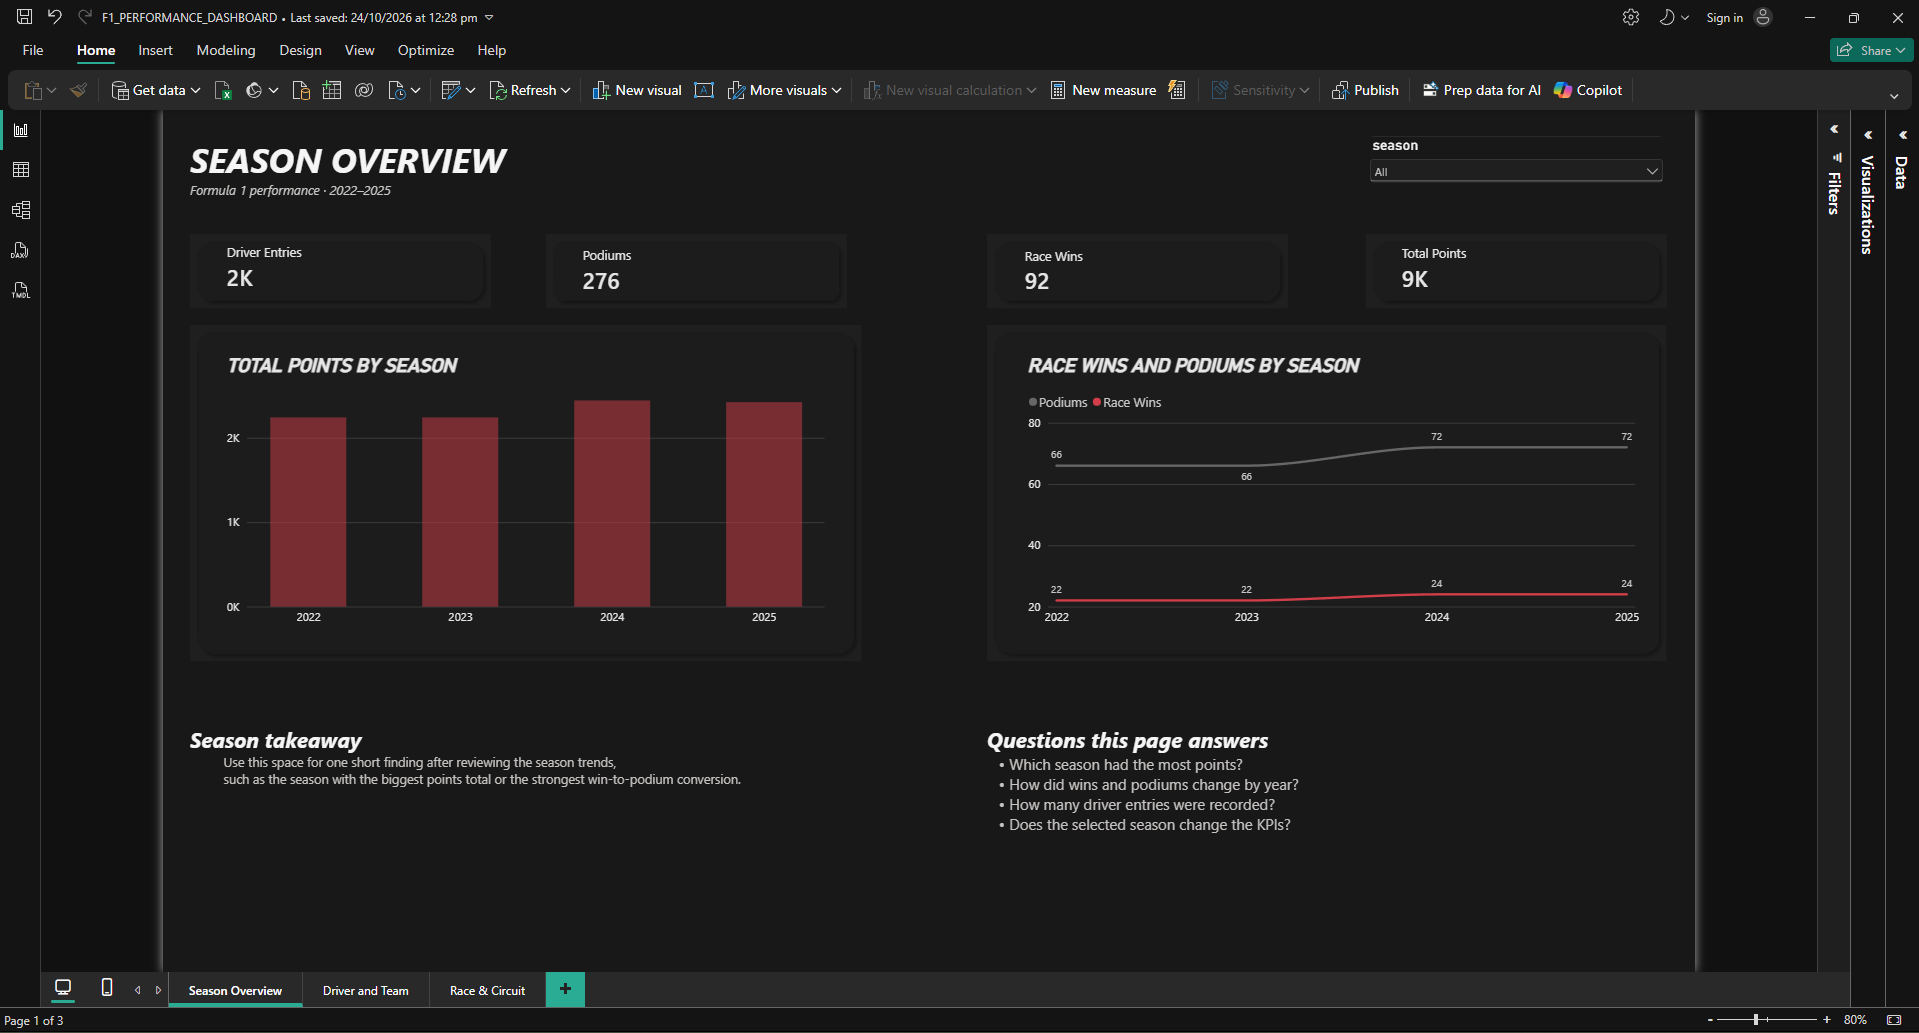

What the dashboard file says about the page in this screenshot:
{"tool":"powerbi","page":{"name":"Season Overview","canvas":[1920,1080],"ordinal":0},"visuals":[{"type":"shape","box":[34.3,155.7,377,93.4],"z":0,"group":"g1"},{"type":"group","id":"g1","title":"Background","box":[34.3,155.7,1850,535.7],"z":500},{"type":"shape","box":[480,155.7,377,93.4],"z":1000,"group":"g1"},{"type":"cardVisual","fields":{"Data":[" fact_race_results.Driver Entries"]},"box":[64.3,165.7,298.6,65.7],"z":1000},{"type":"shape","box":[1032.9,155.7,377,93.4],"z":2000,"group":"g1"},{"type":"cardVisual","fields":{"Data":[" fact_race_results.Podiums"]},"box":[510,165.7,317.1,74.3],"z":2000},{"type":"shape","box":[1507.2,155.7,377,93.4],"z":3000,"group":"g1"},{"type":"cardVisual","fields":{"Data":[" fact_race_results.Race Wins"]},"box":[1064.3,167.1,312.9,71.4],"z":3000},{"type":"cardVisual","fields":{"Data":[" fact_race_results.Total Points"]},"box":[1535.7,167.1,320,65.7],"z":4000},{"type":"shape","box":[34.3,270.1,841.4,421.3],"z":4000,"group":"g1"},{"type":"shape","box":[1032.9,270.1,851.4,421.3],"z":5000,"group":"g1"},{"type":"columnChart","title":"TOTAL POINTS BY SEASON","fields":{"Category":[" clean_races.season"],"Y":[" fact_race_results.Total Points"]},"box":[64.3,291.4,781.4,374.3],"z":5000},{"type":"lineChart","title":"RACE WINS AND PODIUMS BY SEASON","fields":{"Category":[" clean_races.season"],"Y":[" fact_race_results.Podiums"," fact_race_results.Race Wins"]},"box":[1067.1,291.4,798.6,374.3],"z":6000},{"type":"textbox","box":[34.3,32.9,822.9,105.7],"z":6001},{"type":"slicer","fields":{"Values":[" clean_races.season"]},"box":[1507.1,32.9,377.1,105.7],"z":6002},{"type":"textbox","box":[34.3,770,854.3,264.3],"z":6003},{"type":"textbox","box":[1032.9,770,851.4,264.3],"z":6004}]}

Visuals, with their boxes on the page's 1920x1080 design canvas (x1, y1, x2, y2). These are canvas units, not pixel positions in the 1919x1033 screenshot, which may show the page scaled, cropped or inside an application window:
shape: [34,156,411,249]
"Background" group: [34,156,1884,691]
shape: [480,156,857,249]
cardVisual -  fact_race_results.Driver Entries: [64,166,363,231]
shape: [1033,156,1410,249]
cardVisual -  fact_race_results.Podiums: [510,166,827,240]
shape: [1507,156,1884,249]
cardVisual -  fact_race_results.Race Wins: [1064,167,1377,238]
cardVisual -  fact_race_results.Total Points: [1536,167,1856,233]
shape: [34,270,876,691]
shape: [1033,270,1884,691]
"TOTAL POINTS BY SEASON" columnChart: [64,291,846,666]
"RACE WINS AND PODIUMS BY SEASON" lineChart: [1067,291,1866,666]
textbox: [34,33,857,139]
slicer -  clean_races.season: [1507,33,1884,139]
textbox: [34,770,889,1034]
textbox: [1033,770,1884,1034]
